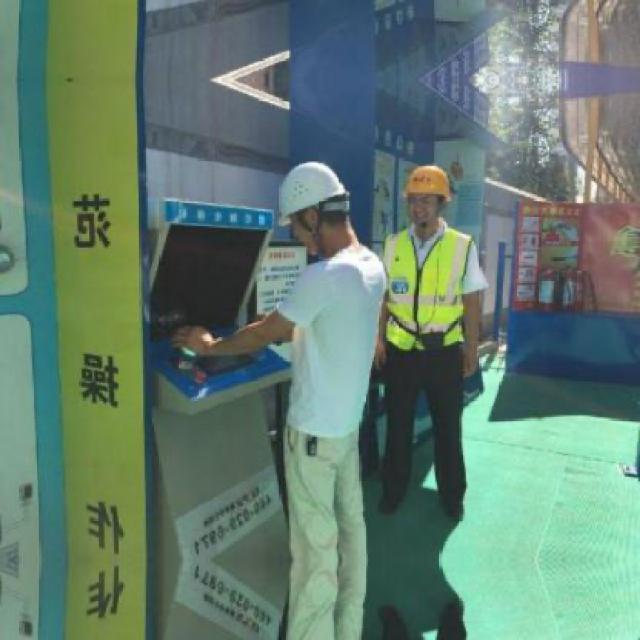helmet: (277, 152, 358, 258), (400, 158, 454, 232)
